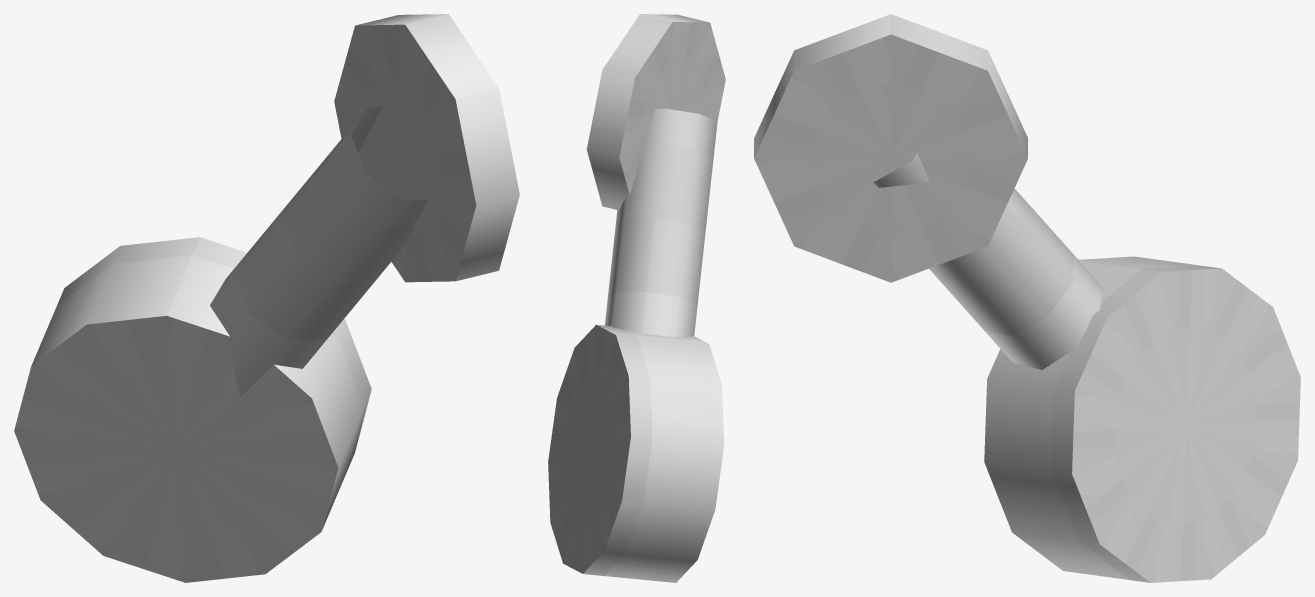
The model's file is nycsignalarm_stub_97.obj.
3 renders of one model, left to right at view 1: azimuth 30°, elevation 25°; view 2: azimuth 150°, elevation 25°; view 3: azimuth 270°, elevation 25°, orthographic. The views are drawn at different scales.
Visible parts, largest first — view 1: nycsignalarm_stub_97; view 2: nycsignalarm_stub_97; view 3: nycsignalarm_stub_97.
Boxes of the visible parts, x1=… form: nycsignalarm_stub_97: x1=14, y1=14, x2=519, y2=582; nycsignalarm_stub_97: x1=548, y1=14, x2=725, y2=582; nycsignalarm_stub_97: x1=754, y1=14, x2=1300, y2=582.
Size of the model in its own units: 0.4044 by 0.8454 by 0.6984.
